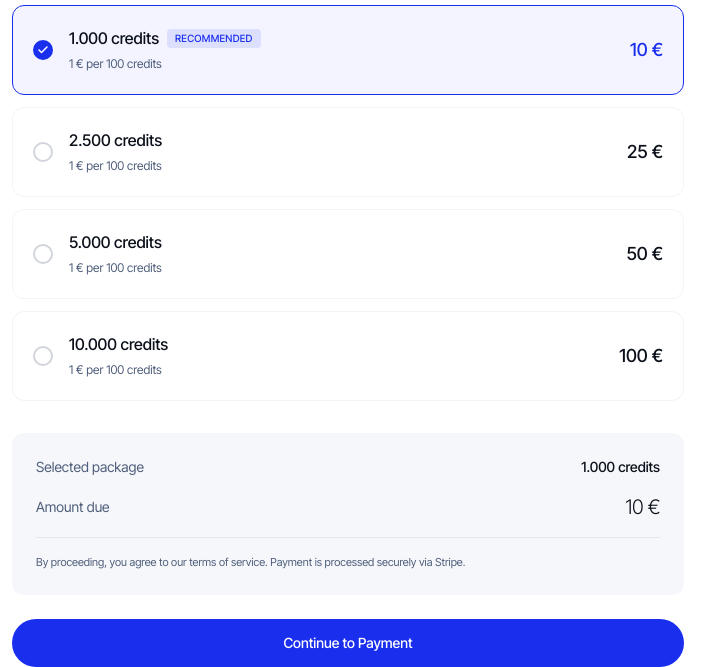
Scenario: TopUpPage › Checkout flow - Error handling › should show error when API returns non-ok response
The image size is (701, 667).
(page scrolled)
Click the button "Continue to Payment".
click(348, 642)  # box top-left (12, 618), bottom-right (684, 666)
(page scrolled)
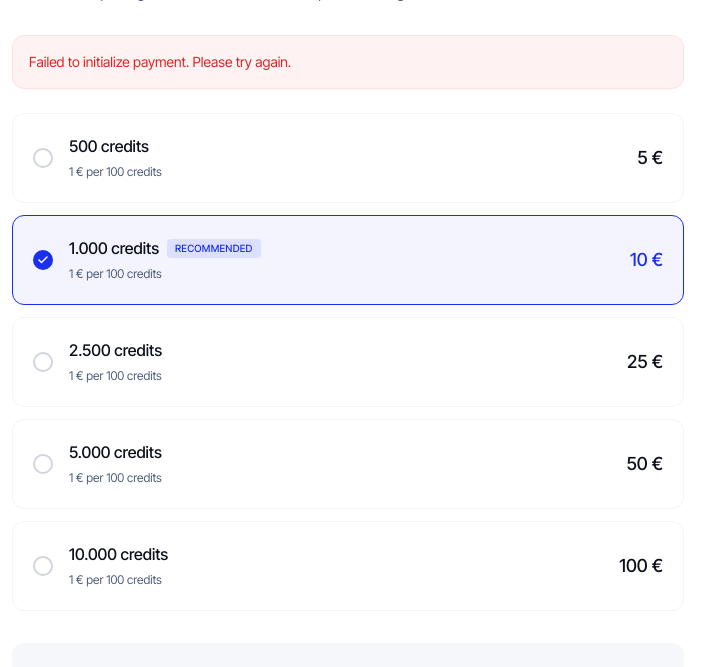
Check: the text "Failed to initialize payment. Please try again." is shown, box top-left (12, 35), bottom-right (684, 89)
